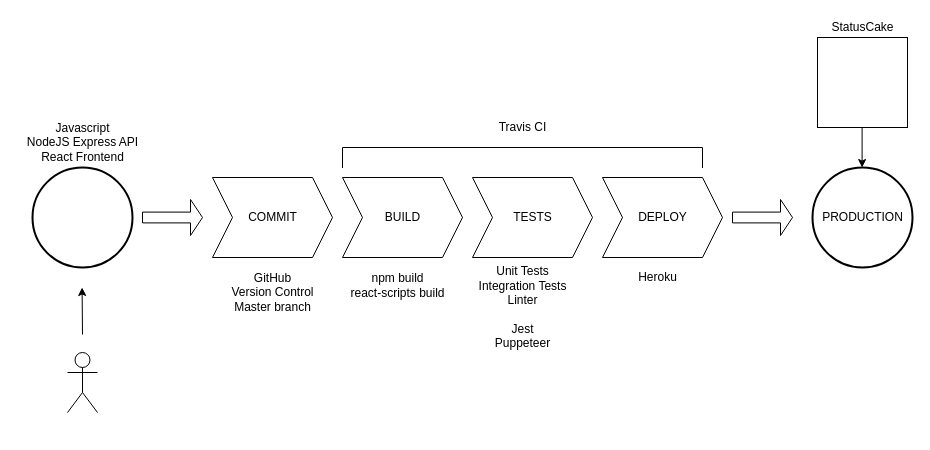
This 930x450 diagram has some shape labels left out. The shapes that lost their labels are listed below. From the top down, each one's centre as x and y in pixels, then its label:
At point 862,82: "MONITORING".
At point 82,217: "DEVELOPMENT".
At point 82,382: "Developer".
